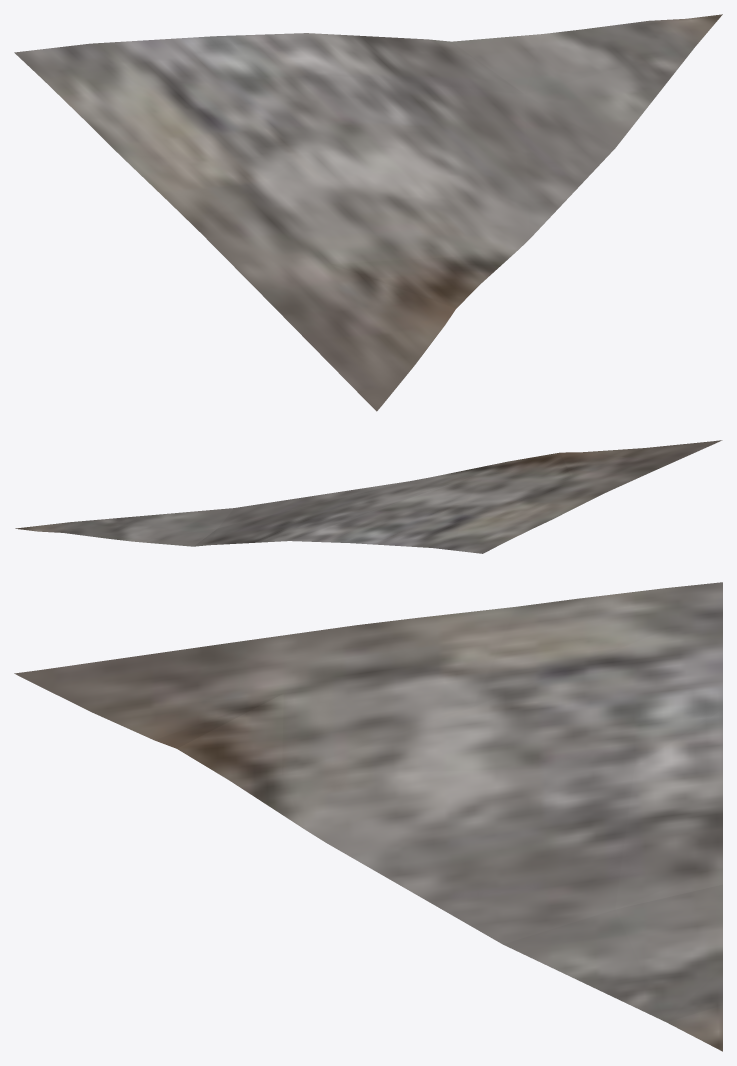
3 views of the same model, one above another, from view 1: azimuth 30°, elevation 25°; view 2: azimuth 150°, elevation 25°; view 3: azimuth 270°, elevation 25° (orthographic). The views are drawn at different scales.
Bounding box in the file's own units: 1.69 × 0.3066 × 1.5.
Materials: 1 (1 with a texture image).
